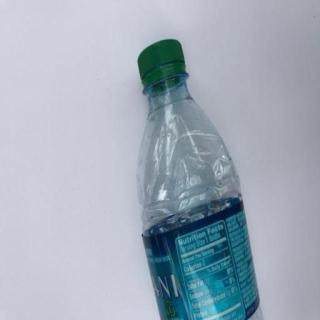Plastic-bottle: (135, 38, 269, 320)
